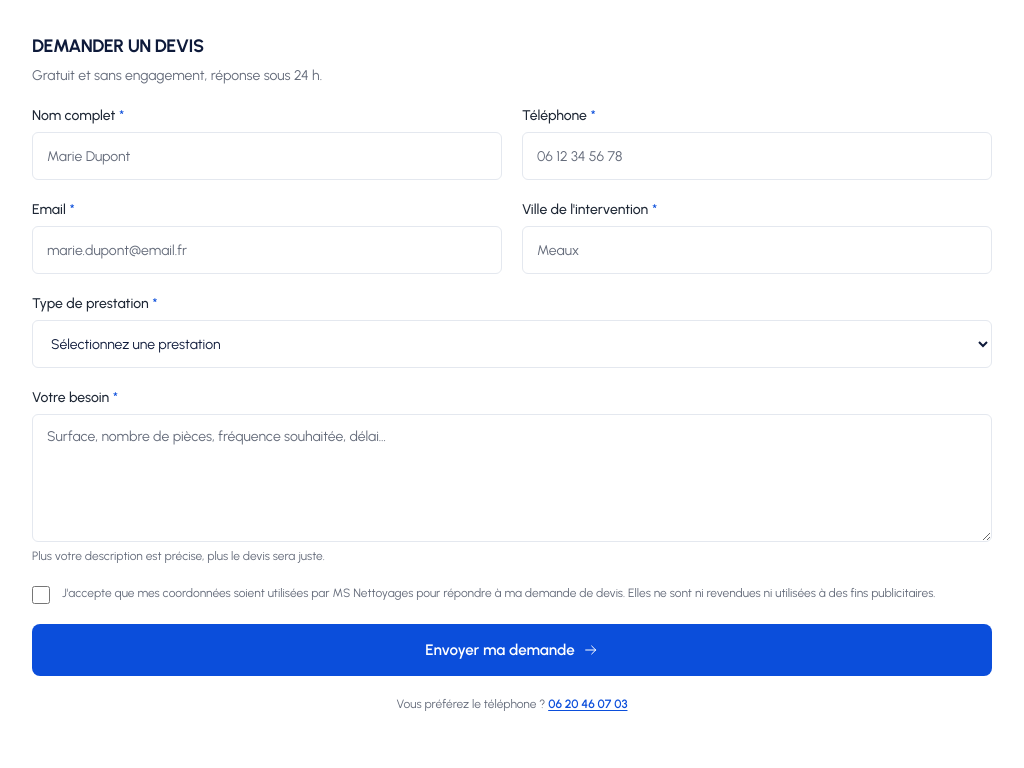
DevisForm › affiche les erreurs de validation sans appeler l'API
Click the button "Envoyer ma demande" at {"x": 512, "y": 650}, box [32, 624, 992, 676]
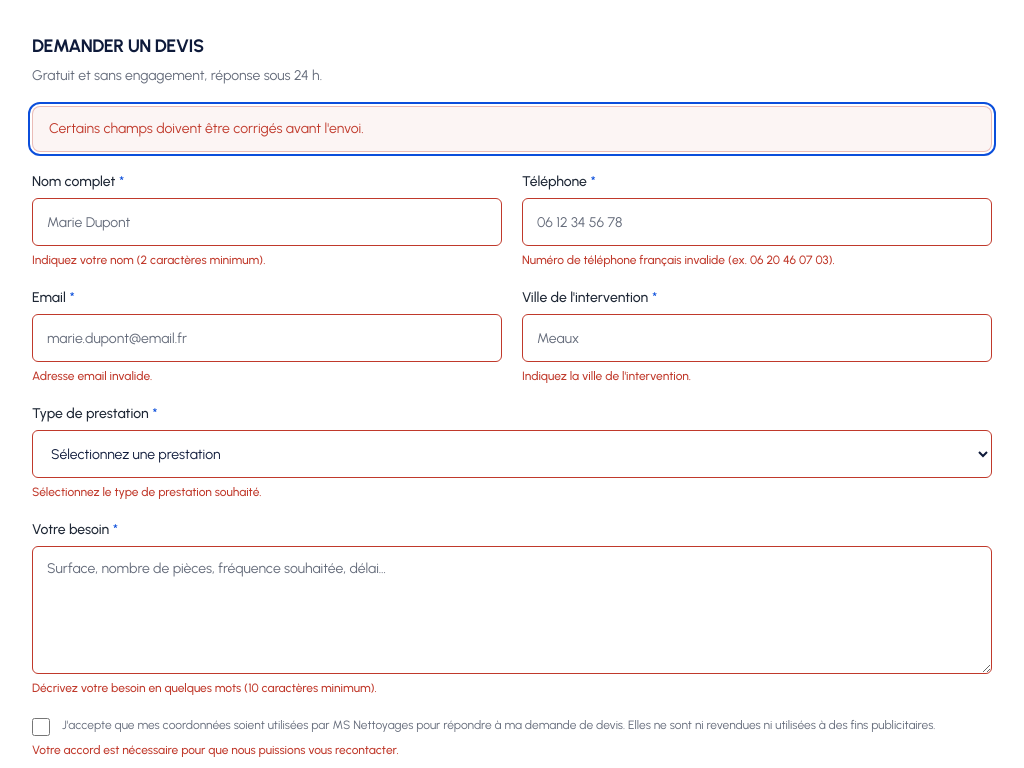
Expected: the message shows "corrigés avant l'envoi", [49, 120, 364, 137]
